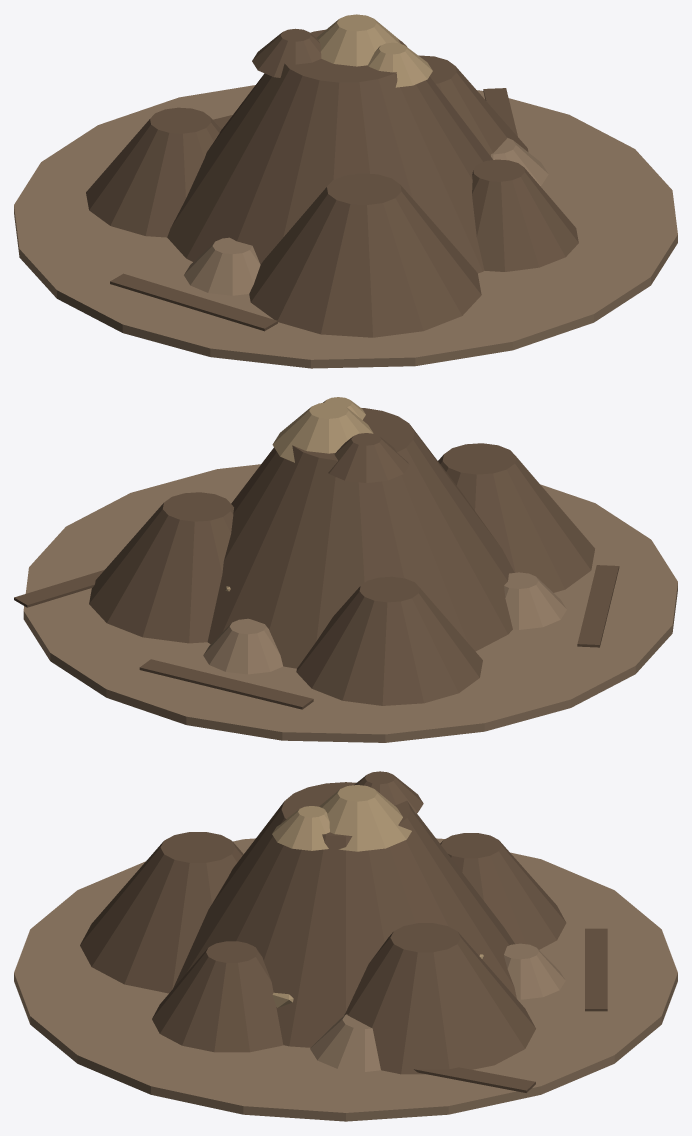
The model's file is dirt_pile.glb.
3 renders of one model, top to bottom at view 1: azimuth 30°, elevation 25°; view 2: azimuth 150°, elevation 25°; view 3: azimuth 270°, elevation 25°, orthographic.
Visible parts, largest first — view 1: DirtPile; view 2: DirtPile; view 3: DirtPile.
Boxes of the visible parts, x1,y1,x2,y2 form: DirtPile: (14,14,677,368); DirtPile: (14,397,677,742); DirtPile: (14,771,677,1121).
Size of the model in its own units: 3.5 by 1.14 by 3.5.
